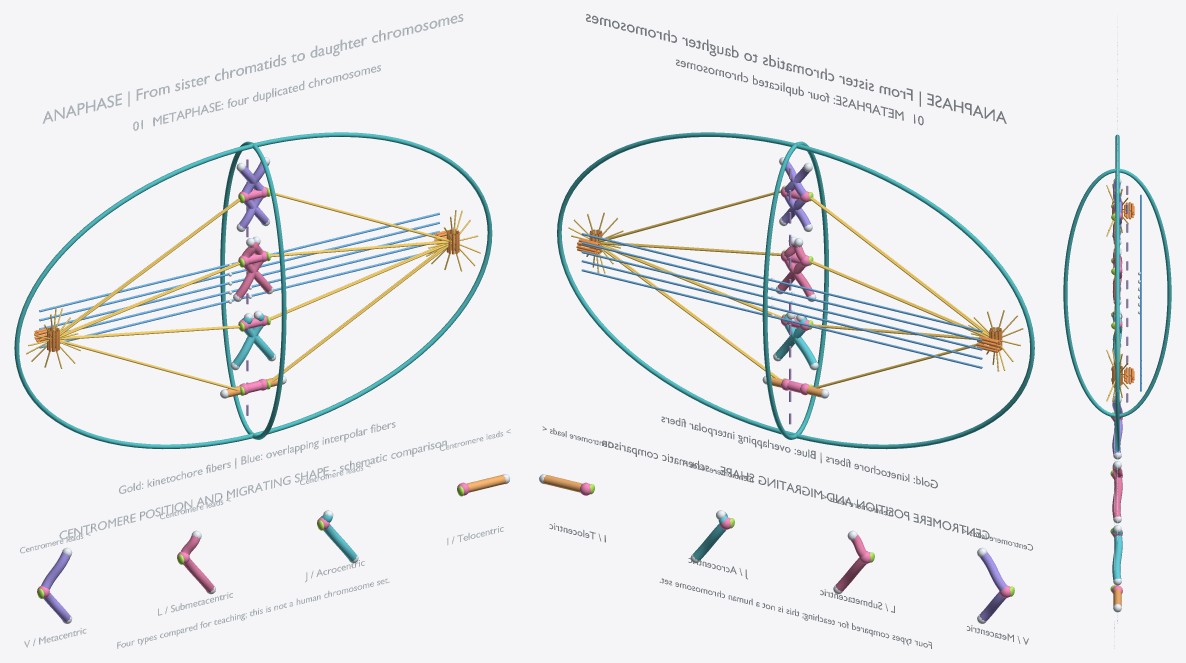
Rendered from anaphase.glb.
3 renders of one model, left to right at view 1: azimuth 30°, elevation 25°; view 2: azimuth 150°, elevation 25°; view 3: azimuth 270°, elevation 25°, orthographic. The views are drawn at different scales.
Visible parts, largest first — view 1: Open cutaway cell boundary, Open cutaway cell boundary.002, ANAPHASE | From sister chromatids to daughter chromosomes, CENTROMERE POSITION AND MIGRATING SHAPE - schematic comparis, Gold: kinetochore fibers | Blue: overlapping interpolar fibe, 01 METAPHASE: four duplicated chromosomes, Four types compared for teaching; this is not a human chromo; view 2: Open cutaway cell boundary, Open cutaway cell boundary.002, ANAPHASE | From sister chromatids to daughter chromosomes, CENTROMERE POSITION AND MIGRATING SHAPE - schematic comparis, Gold: kinetochore fibers | Blue: overlapping interpolar fibe, 01 METAPHASE: four duplicated chromosomes, Four types compared for teaching; this is not a human chromo; view 3: Open cutaway cell boundary.002, Open cutaway cell boundary, Enlarged J / Acrocentric arm.001, Enlarged L / Submetacentric arm.001, Enlarged V / Metacentric arm.001, Interpolar overlapping half.004, Interpolar overlapping half.009.
Part boxes in pixels (bbox=[...]): Open cutaway cell boundary: bbox=[14, 132, 492, 449]; Open cutaway cell boundary.002: bbox=[220, 141, 286, 439]; ANAPHASE | From sister chromatids to daughter chromosomes: bbox=[42, 14, 463, 123]; CENTROMERE POSITION AND MIGRATING SHAPE - schematic comparis: bbox=[59, 440, 446, 539]; Gold: kinetochore fibers | Blue: overlapping interpolar fibe: bbox=[119, 422, 395, 493]; 01 METAPHASE: four duplicated chromosomes: bbox=[133, 65, 380, 130]; Four types compared for teaching; this is not a human chromo: bbox=[117, 578, 389, 648]; Open cutaway cell boundary: bbox=[557, 132, 1034, 449]; Open cutaway cell boundary.002: bbox=[762, 141, 828, 439]; ANAPHASE | From sister chromatids to daughter chromosomes: bbox=[586, 14, 1006, 123]; CENTROMERE POSITION AND MIGRATING SHAPE - schematic comparis: bbox=[602, 440, 989, 539]; Gold: kinetochore fibers | Blue: overlapping interpolar fibe: bbox=[661, 416, 937, 488]; 01 METAPHASE: four duplicated chromosomes: bbox=[676, 59, 923, 125]; Four types compared for teaching; this is not a human chromo: bbox=[659, 578, 931, 648]; Open cutaway cell boundary.002: bbox=[1063, 168, 1171, 417]; Open cutaway cell boundary: bbox=[1115, 134, 1119, 451]; Enlarged J / Acrocentric arm.001: bbox=[1112, 535, 1122, 579]; Enlarged L / Submetacentric arm.001: bbox=[1112, 478, 1122, 517]; Enlarged V / Metacentric arm.001: bbox=[1112, 420, 1122, 453]; Interpolar overlapping half.004: bbox=[1140, 194, 1141, 290]; Interpolar overlapping half.009: bbox=[1140, 263, 1141, 360].
Size of the model in its own units: 7.43 by 7.99 by 1.66.
